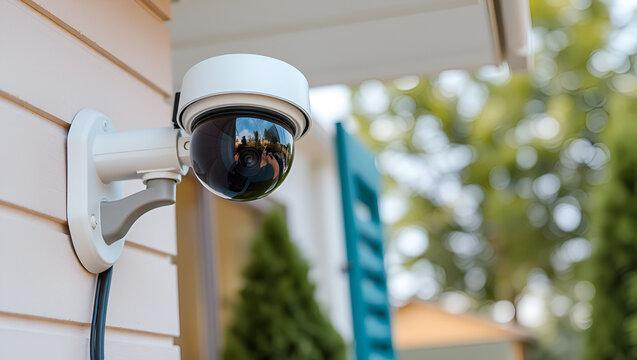360-Cam: (173, 55, 317, 207)
